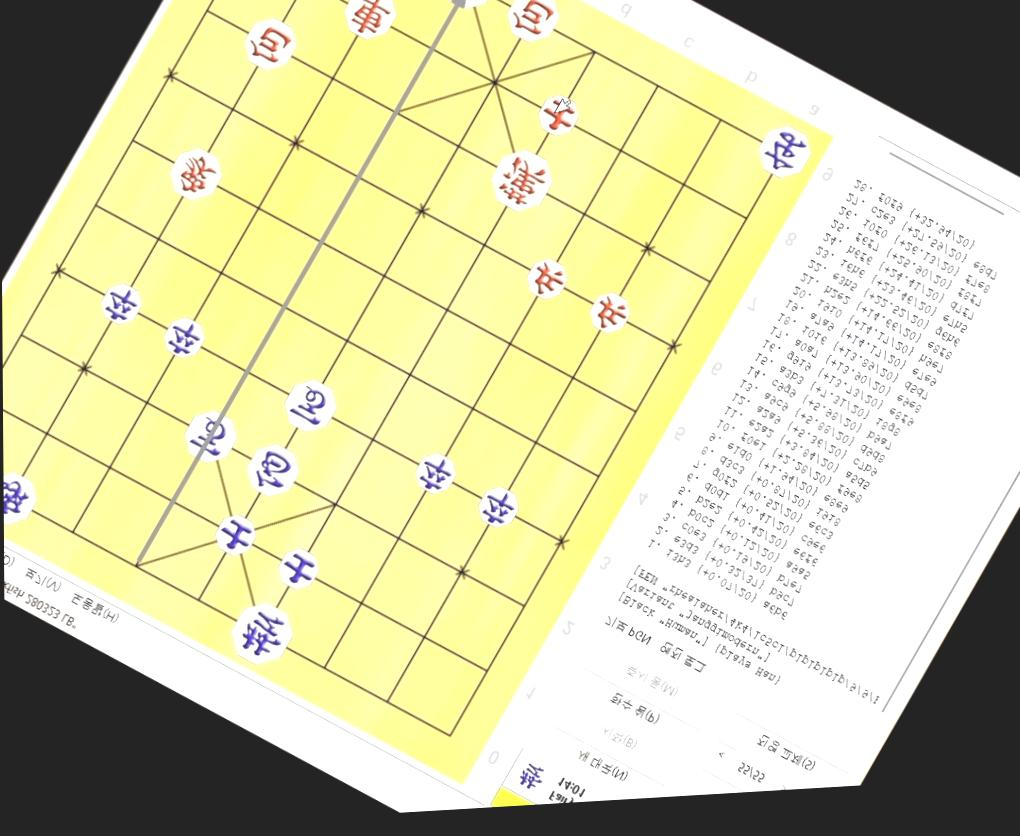cha_green: (750, 113, 820, 186)
cha_red: (339, 0, 405, 46)
jol_green: (472, 478, 524, 532), (158, 308, 210, 362), (411, 446, 462, 499), (94, 275, 145, 328)
jol_red: (583, 281, 638, 342), (520, 248, 574, 305)
ma_green: (176, 397, 245, 469), (278, 369, 344, 437)
po_green: (238, 434, 306, 504), (436, 0, 502, 12)
po_red: (237, 6, 305, 79), (501, 0, 566, 49)
sa_green: (210, 505, 263, 560), (274, 540, 325, 593)
sa_red: (530, 87, 585, 144)
sang_green: (3, 462, 43, 529)
sang_red: (162, 138, 230, 207)
wang_green: (223, 593, 299, 672)
wang_red: (479, 133, 562, 221)
